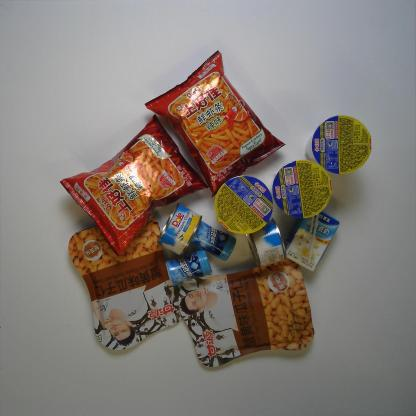Canned Food: (155, 201, 203, 257), (245, 216, 287, 269)
Dried Fruit: (66, 214, 187, 352), (177, 257, 316, 369)
Gum: (190, 219, 238, 261), (164, 248, 213, 287)
Instant Noodles: (304, 114, 373, 177), (270, 158, 332, 220), (213, 173, 274, 236)
Milk: (284, 209, 340, 274)
Puffed Food: (58, 111, 212, 260), (143, 47, 287, 200)
